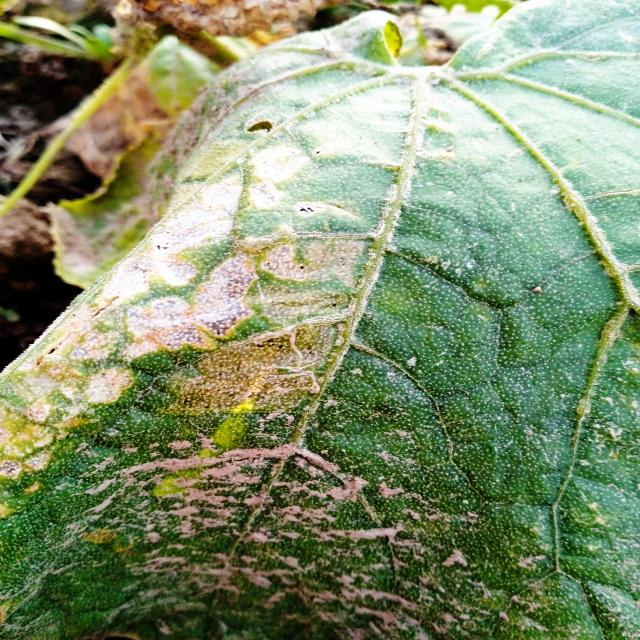Anthracnose: (240, 113, 282, 142)
